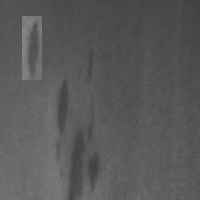inclusion: (61, 94, 102, 198), (53, 73, 74, 139), (22, 16, 42, 80), (81, 43, 97, 89)
